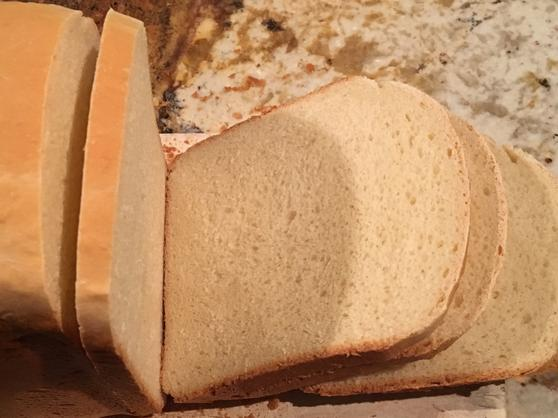white_bread: (1, 4, 178, 376)
